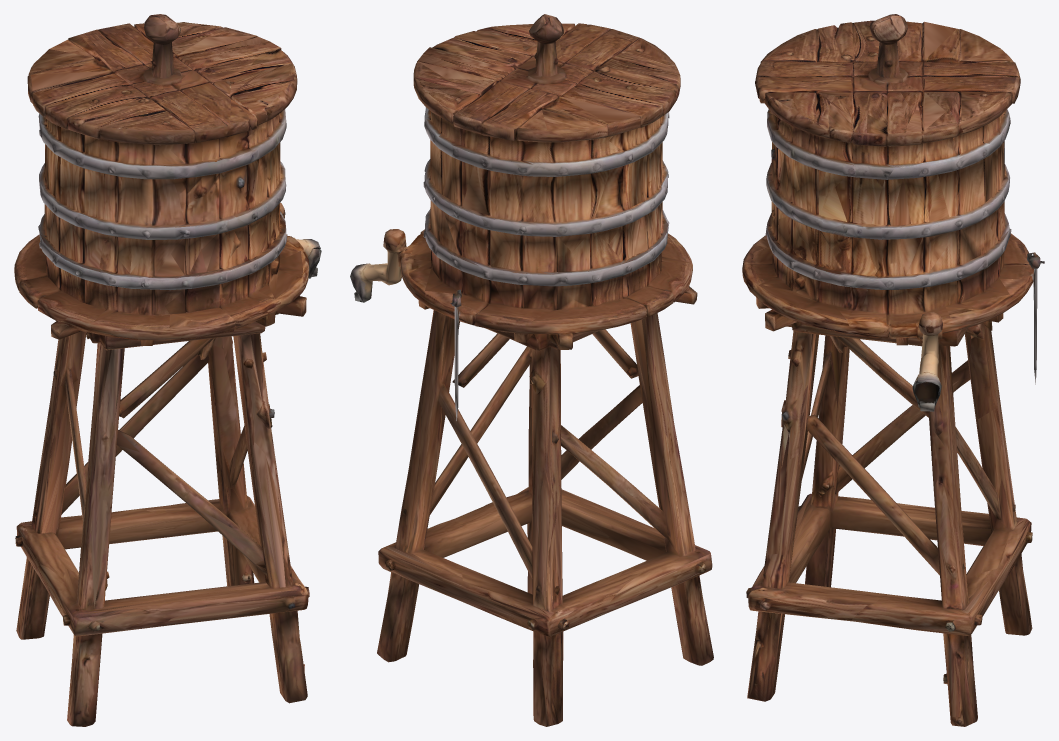
The model's file is prop_gulch_watertower.fbx.
3 renders of one model, left to right at view 1: azimuth 30°, elevation 25°; view 2: azimuth 150°, elevation 25°; view 3: azimuth 270°, elevation 25°, orthographic.
Parts seen in each view (by area): view 1: prop_gulch_watertower_LOD0; view 2: prop_gulch_watertower_LOD0; view 3: prop_gulch_watertower_LOD0.
Part boxes in pixels (x1,y1,x2,y2): prop_gulch_watertower_LOD0: (14,14,321,726); prop_gulch_watertower_LOD0: (350,14,713,726); prop_gulch_watertower_LOD0: (742,14,1044,726).
Size of what is drawn, in the model's own units: 0.4806 by 0.9812 by 0.4148.
